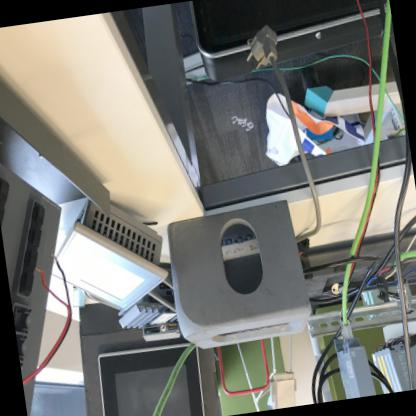CornerCasting: (161, 196, 313, 354)
